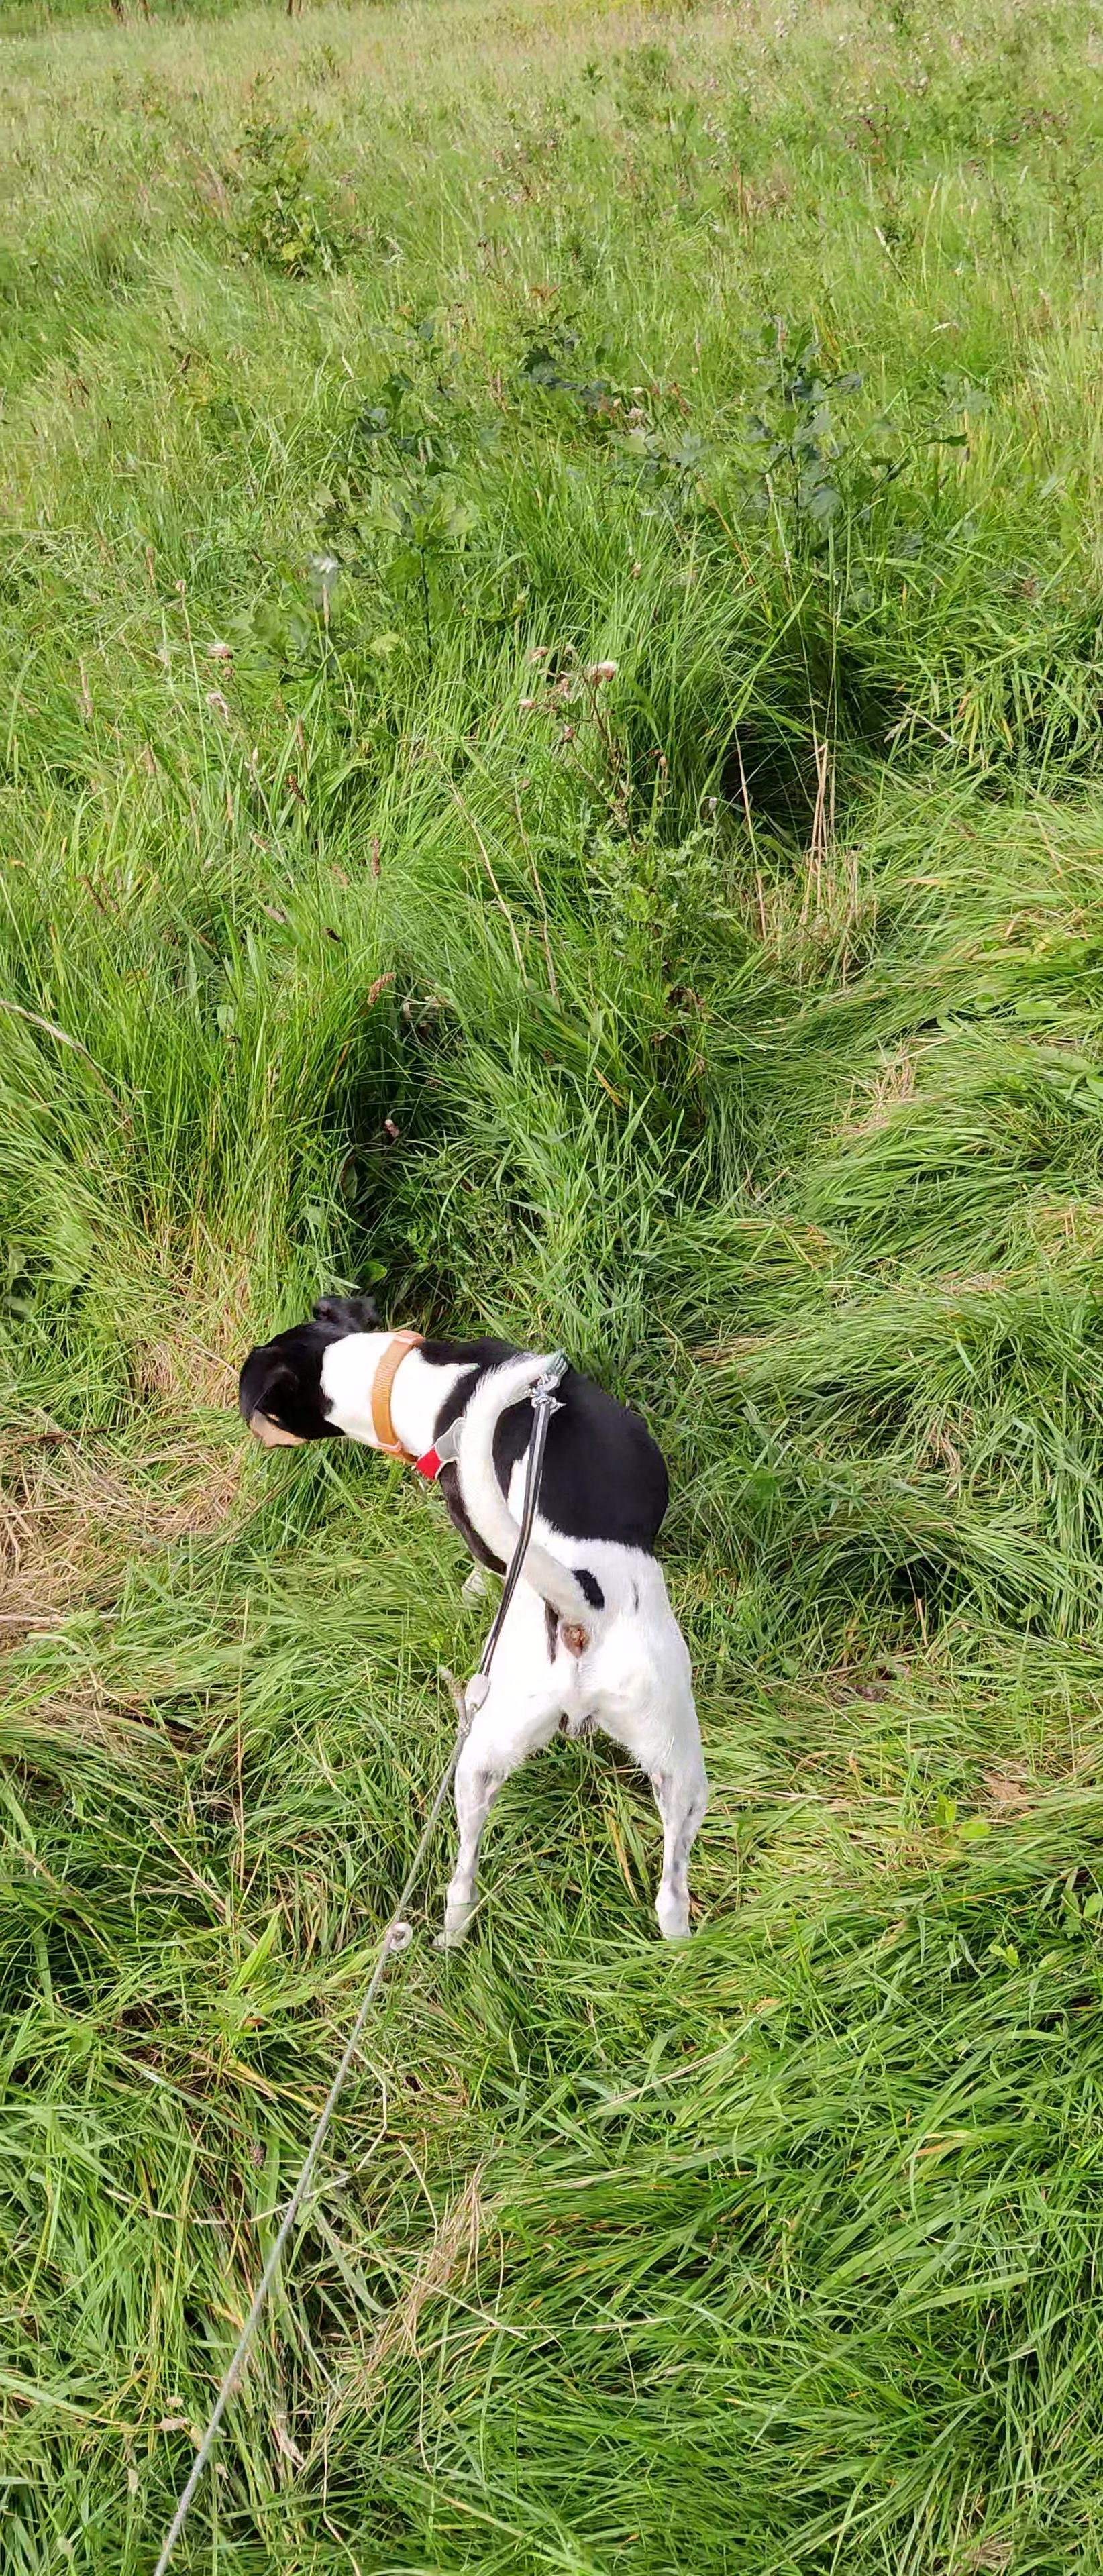Dog: (197, 1262, 741, 1980)
